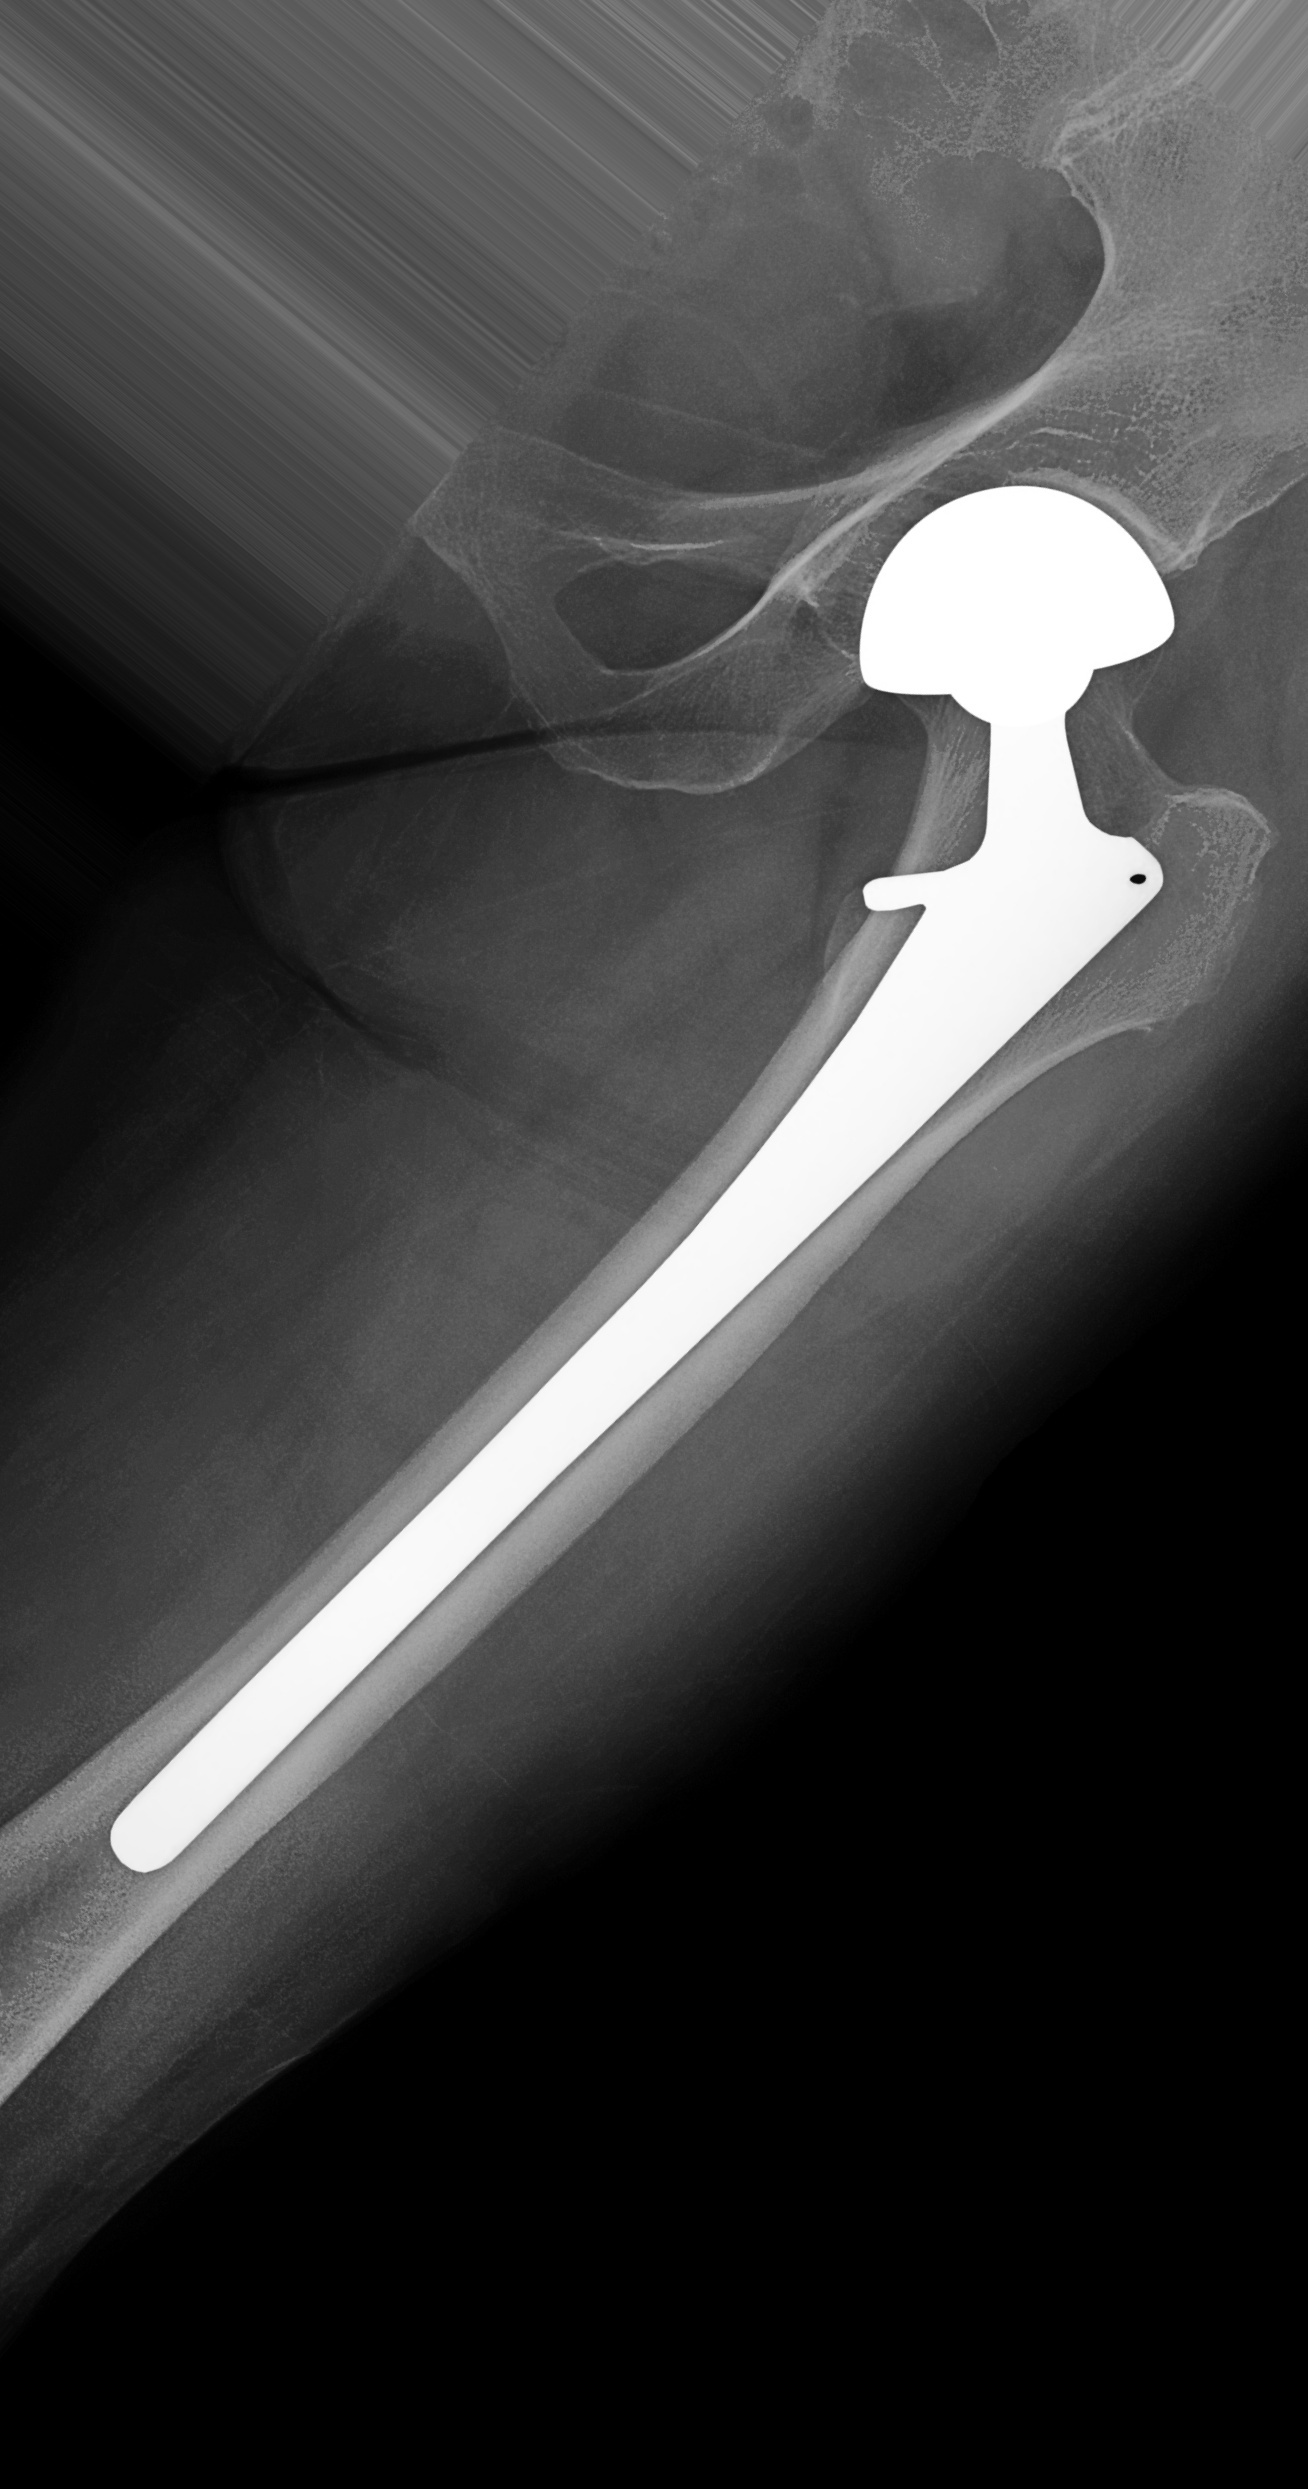Hip - Bias - Zimmer: (16, 464, 1288, 1982)
